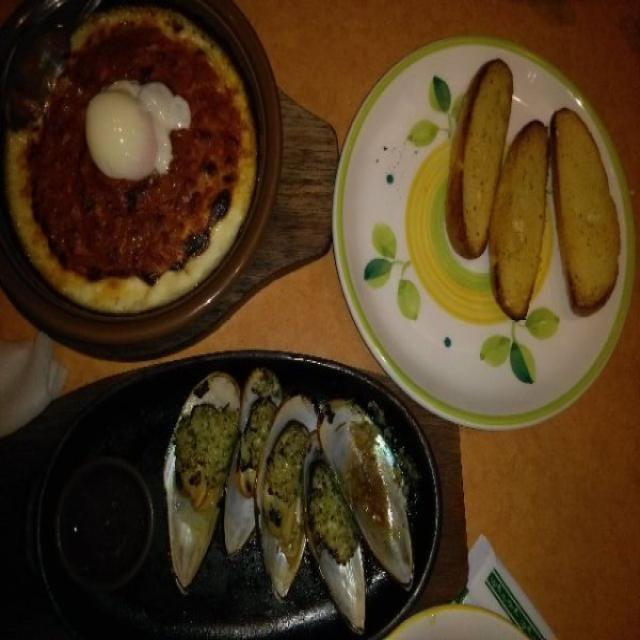Pizza: (0, 0, 266, 317)
